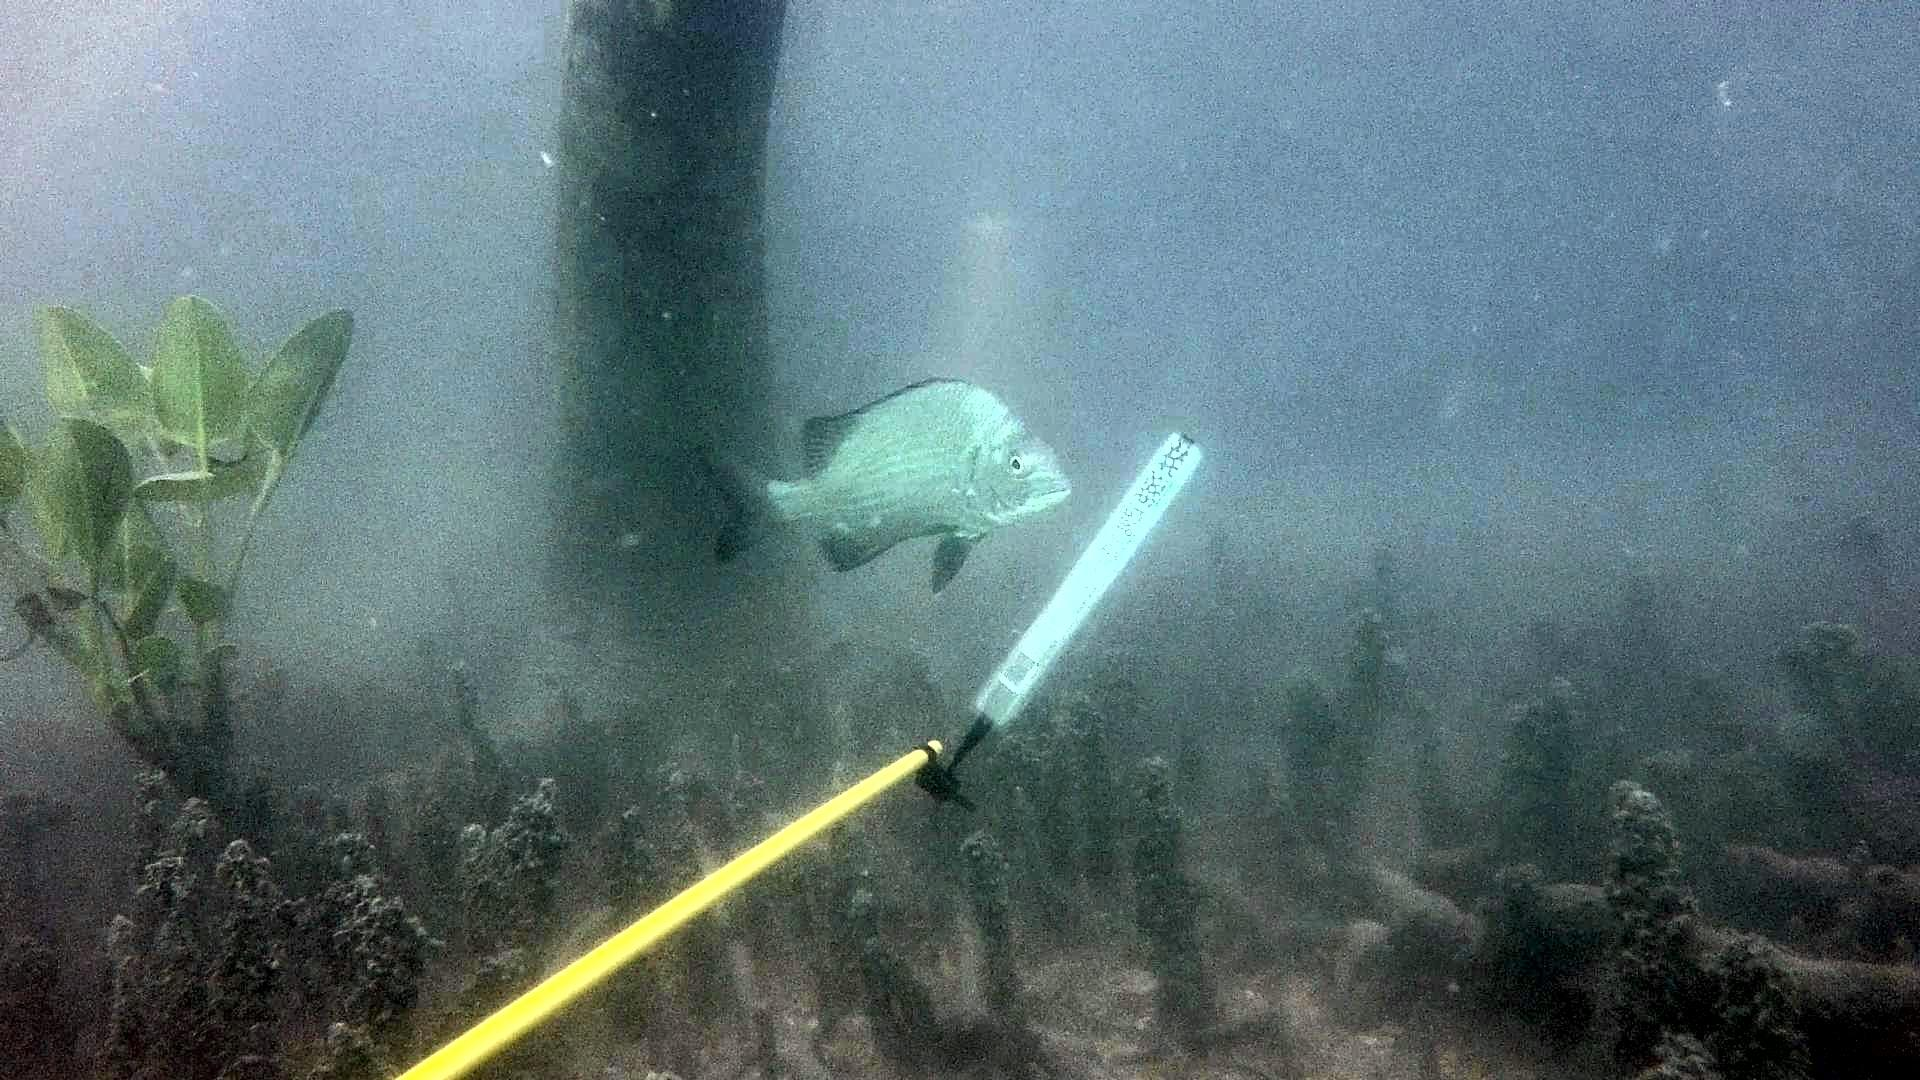acanthopagrus palmaris: (692, 371, 1081, 600)
